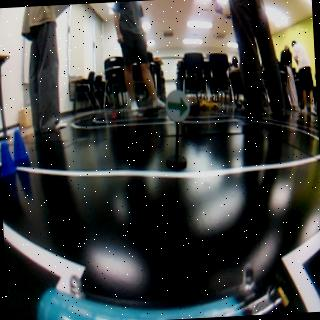right: (165, 90, 188, 123)
